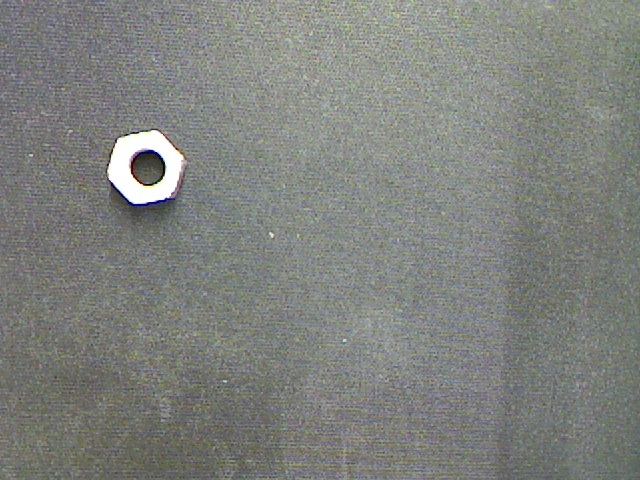Nut: (108, 128, 189, 208)
